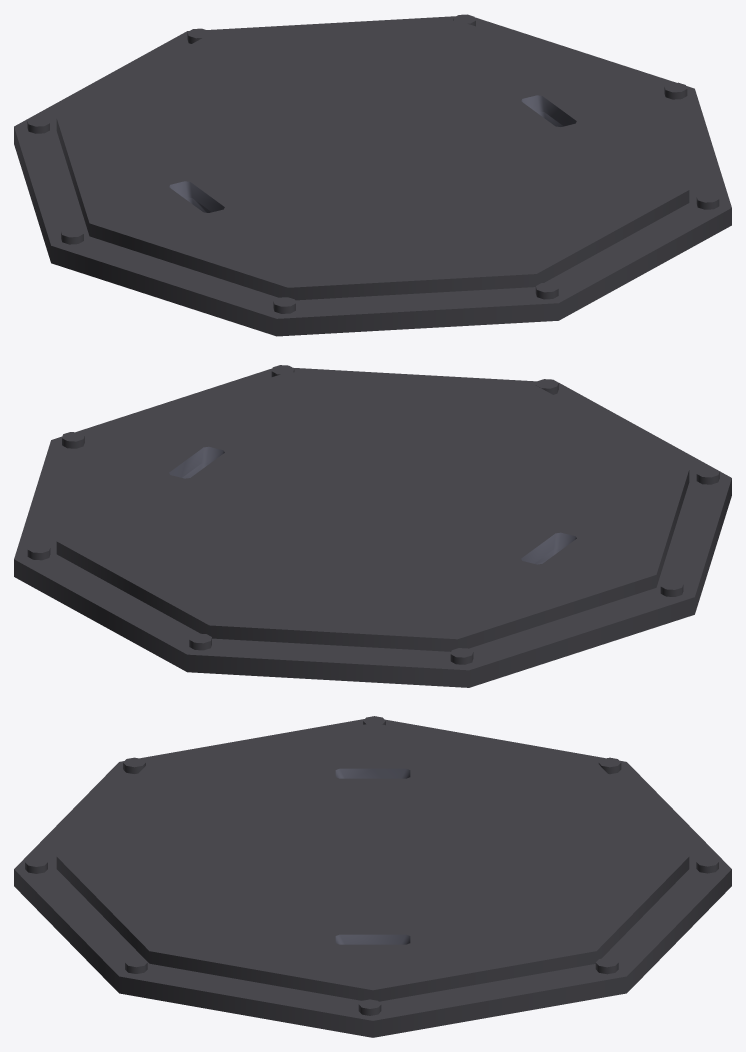
File: Manhole_Cover_001.glb
3 renders of one model, top to bottom at view 1: azimuth 30°, elevation 25°; view 2: azimuth 150°, elevation 25°; view 3: azimuth 270°, elevation 25°, orthographic. The views are drawn at different scales.
Visible parts, largest first — view 1: Manhole Cover.001; view 2: Manhole Cover.001; view 3: Manhole Cover.001.
Part boxes in pixels (x1,y1,x2,y2): Manhole Cover.001: [14, 14, 731, 336]; Manhole Cover.001: [14, 365, 731, 687]; Manhole Cover.001: [14, 716, 731, 1037].
Size of the model in its own units: 6.01 by 0.2728 by 6.01.
Materials: 1 (1 with a texture image).
